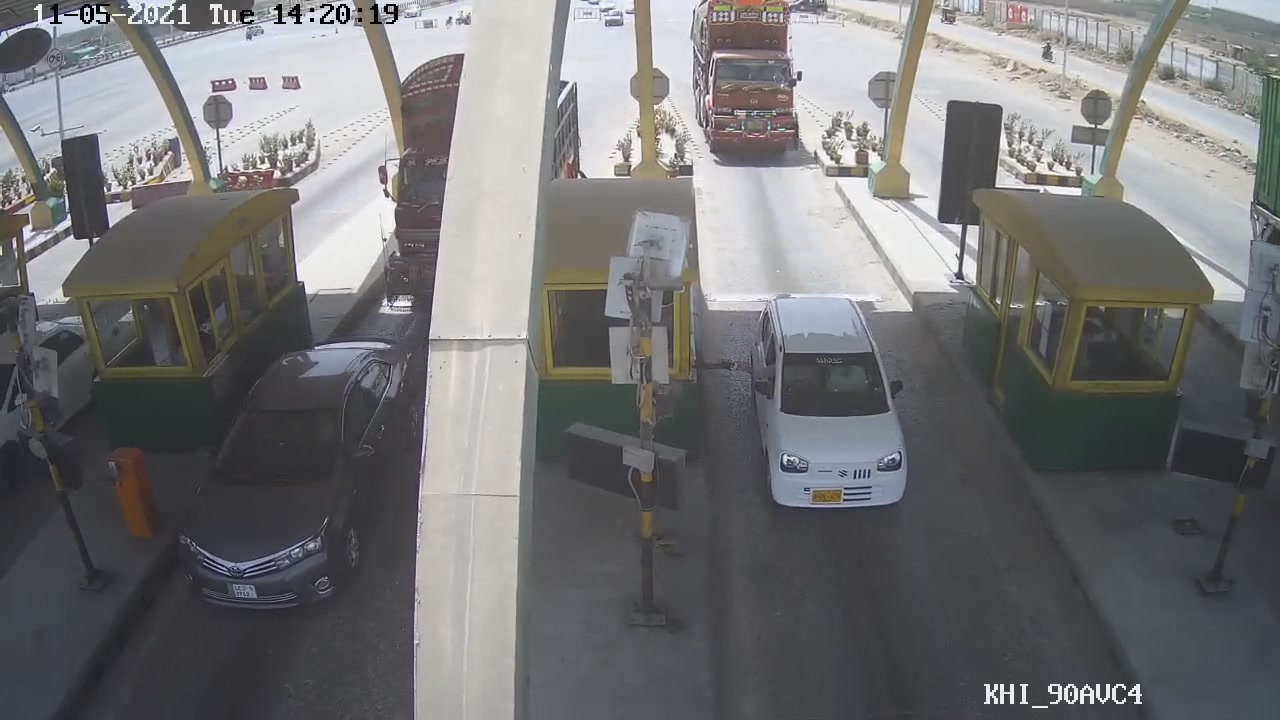F1: (742, 292, 921, 520)
